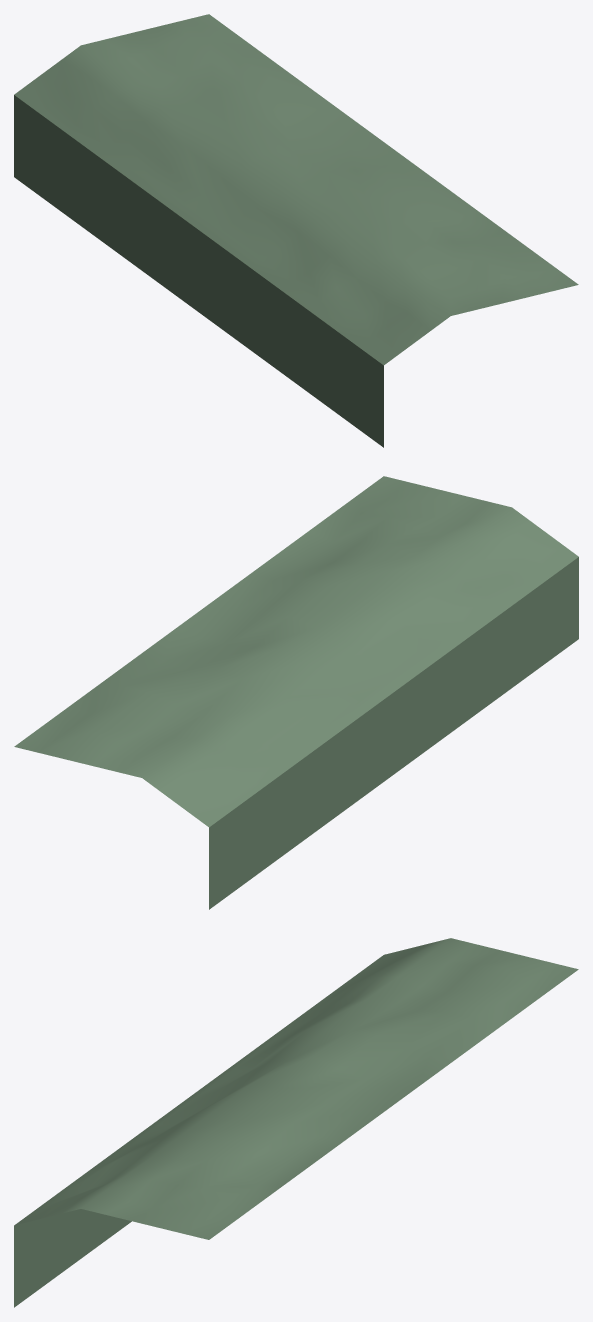
Rendered from RightSide1.fbx.
3 views of the same model, one above another, from view 1: azimuth 30°, elevation 25°; view 2: azimuth 150°, elevation 25°; view 3: azimuth 330°, elevation 25° (orthographic).
Parts seen in each view (by area): view 1: RightSide1; view 2: RightSide1; view 3: RightSide1.
Part boxes in pixels (x1,y1,x2,y2): RightSide1: [14, 14, 578, 447]; RightSide1: [14, 476, 578, 909]; RightSide1: [14, 938, 578, 1307].
Bounding box in the file's own units: 60.91 × 37.09 × 200.
